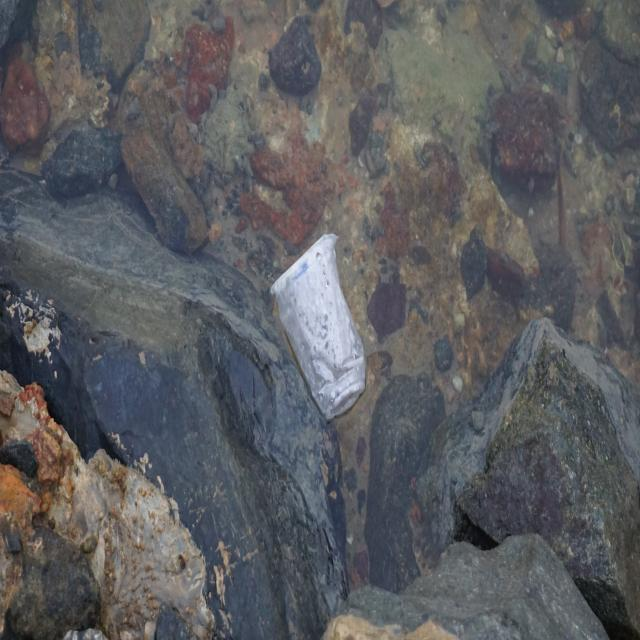Bungkus Minuman: (271, 220, 373, 427)
